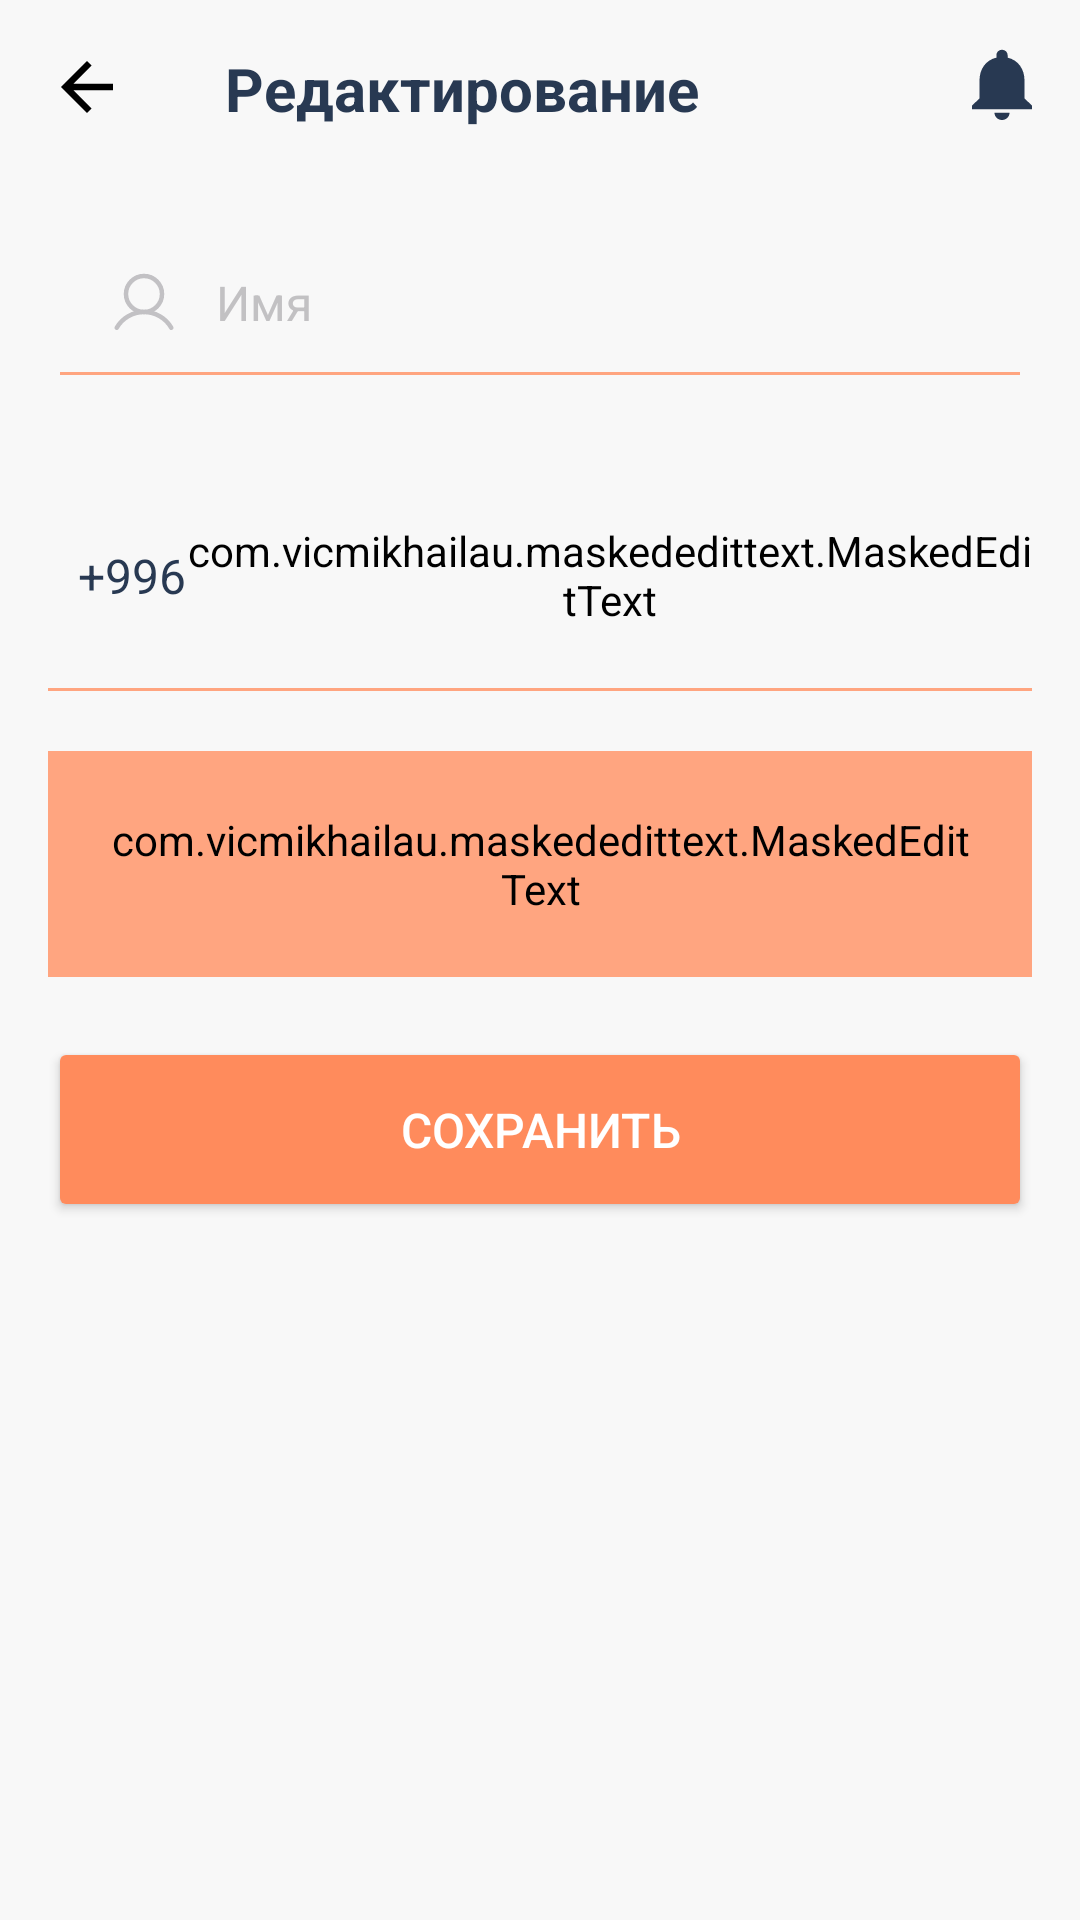

Icons on this 1080px x 1920px Android screen, each with the point to tap as (x,y):
arrow back: (87,87)
notification: (1002,84)
